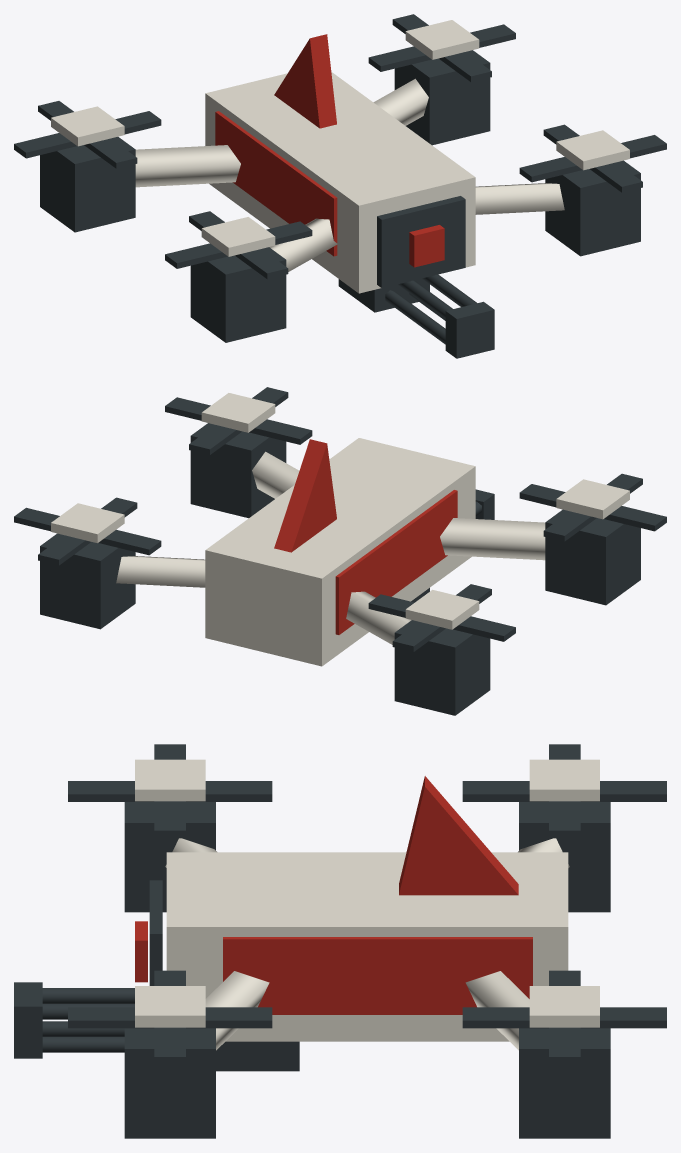
3 views of the same model, one above another, from view 1: azimuth 30°, elevation 25°; view 2: azimuth 150°, elevation 25°; view 3: azimuth 270°, elevation 25° (orthographic). The views are drawn at different scales.
Visible parts, largest first — view 1: gun-drone-fleet-armor, gun-drone-fleet-machine, gun-drone-fleet-red, gun-fleet-machine, rotor--1--1-fleet-machine, rotor-1-1-fleet-machine, rotor--1-1-fleet-machine, rotor-1--1-fleet-machine, rotor--1-1-fleet-armor, rotor-1--1-fleet-armor, rotor-1-1-fleet-armor, rotor--1--1-fleet-armor; view 2: gun-drone-fleet-armor, gun-drone-fleet-machine, gun-drone-fleet-red, rotor--1-1-fleet-machine, rotor-1--1-fleet-machine, rotor--1--1-fleet-machine, rotor-1-1-fleet-machine, rotor--1--1-fleet-armor, rotor-1-1-fleet-armor, rotor-1--1-fleet-armor, rotor--1-1-fleet-armor, gun-fleet-machine; view 3: gun-drone-fleet-armor, gun-drone-fleet-machine, gun-drone-fleet-red, gun-fleet-machine, rotor-1--1-fleet-machine, rotor-1-1-fleet-machine, rotor--1--1-fleet-machine, rotor--1-1-fleet-machine, rotor--1-1-fleet-armor, rotor--1--1-fleet-armor, rotor-1--1-fleet-armor, rotor-1-1-fleet-armor.
Boxes of the visible parts, left/top/right/bottom form: gun-drone-fleet-armor: left=135, top=72, right=564, bottom=293; gun-drone-fleet-machine: left=40, top=50, right=640, bottom=342; gun-drone-fleet-red: left=215, top=34, right=444, bottom=267; gun-fleet-machine: left=338, top=274, right=494, bottom=358; rotor--1--1-fleet-machine: left=14, top=101, right=161, bottom=168; rotor-1-1-fleet-machine: left=519, top=124, right=666, bottom=192; rotor--1-1-fleet-machine: left=165, top=211, right=312, bottom=278; rotor-1--1-fleet-machine: left=368, top=14, right=515, bottom=81; rotor--1-1-fleet-armor: left=201, top=217, right=275, bottom=256; rotor-1--1-fleet-armor: left=405, top=20, right=479, bottom=59; rotor-1-1-fleet-armor: left=556, top=130, right=629, bottom=170; rotor--1--1-fleet-armor: left=51, top=106, right=124, bottom=146; gun-drone-fleet-armor: left=116, top=438, right=545, bottom=666; gun-drone-fleet-machine: left=40, top=423, right=640, bottom=715; gun-drone-fleet-red: left=274, top=439, right=457, bottom=634; rotor--1-1-fleet-machine: left=519, top=473, right=666, bottom=541; rotor-1--1-fleet-machine: left=14, top=497, right=161, bottom=565; rotor--1--1-fleet-machine: left=368, top=584, right=515, bottom=651; rotor-1-1-fleet-machine: left=165, top=387, right=312, bottom=454; rotor--1--1-fleet-armor: left=405, top=589, right=479, bottom=629; rotor-1-1-fleet-armor: left=201, top=393, right=275, bottom=432; rotor-1--1-fleet-armor: left=51, top=503, right=124, bottom=543; rotor--1-1-fleet-armor: left=556, top=479, right=629, bottom=519; gun-fleet-machine: left=411, top=489, right=494, bottom=602; gun-drone-fleet-armor: left=165, top=838, right=569, bottom=1050; gun-drone-fleet-machine: left=124, top=802, right=610, bottom=1138; gun-drone-fleet-red: left=135, top=776, right=532, bottom=1014; gun-fleet-machine: left=14, top=982, right=299, bottom=1071; rotor-1--1-fleet-machine: left=462, top=970, right=666, bottom=1064; rotor-1-1-fleet-machine: left=68, top=970, right=272, bottom=1064; rotor--1--1-fleet-machine: left=462, top=744, right=666, bottom=838; rotor--1-1-fleet-machine: left=68, top=744, right=272, bottom=838; rotor--1-1-fleet-armor: left=135, top=759, right=205, bottom=801; rotor--1--1-fleet-armor: left=529, top=759, right=599, bottom=801; rotor-1--1-fleet-armor: left=529, top=986, right=599, bottom=1027; rotor-1-1-fleet-armor: left=135, top=986, right=205, bottom=1027.
Size of the model in its own units: 6.26 by 2.54 by 5.53.
